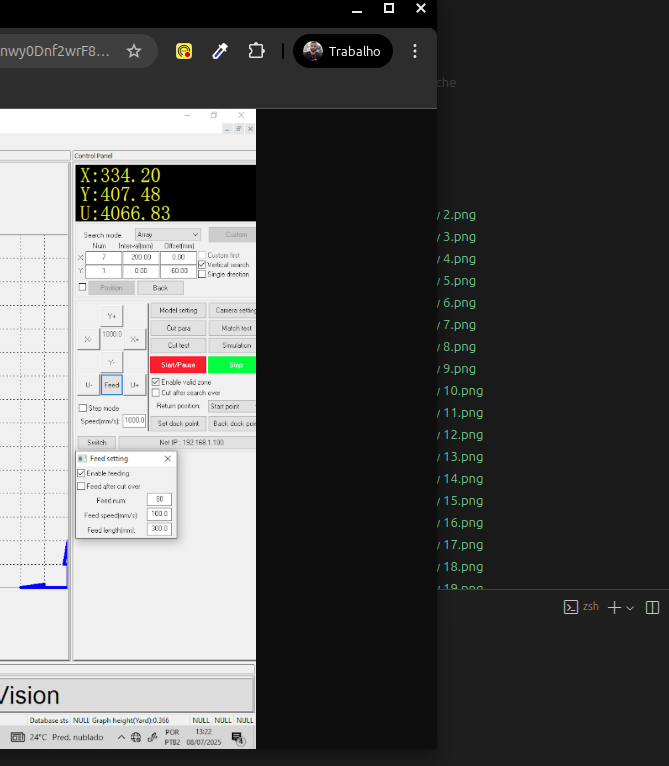start: (149, 356, 208, 374)
timer: (159, 240, 196, 278)
